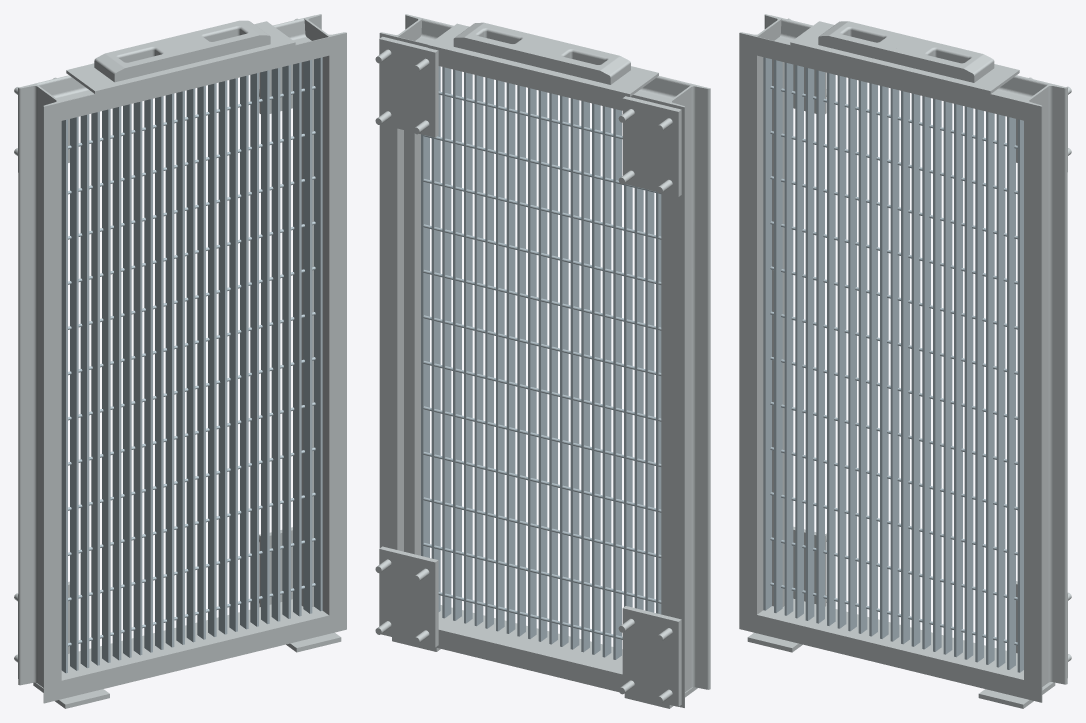
File: frame_subassembly.glb
3 renders of one model, left to right at view 1: azimuth 30°, elevation 25°; view 2: azimuth 150°, elevation 25°; view 3: azimuth 330°, elevation 25°, orthographic.
Parts seen in each view (by area): view 1: Node1; view 2: Node1; view 3: Node1.
Part boxes in pixels (x1=…): Node1: x1=14, y1=14, x2=346, y2=708; Node1: x1=375, y1=14, x2=710, y2=708; Node1: x1=739, y1=14, x2=1071, y2=708.
Size of the model in its own units: 690 by 1341 by 178.
